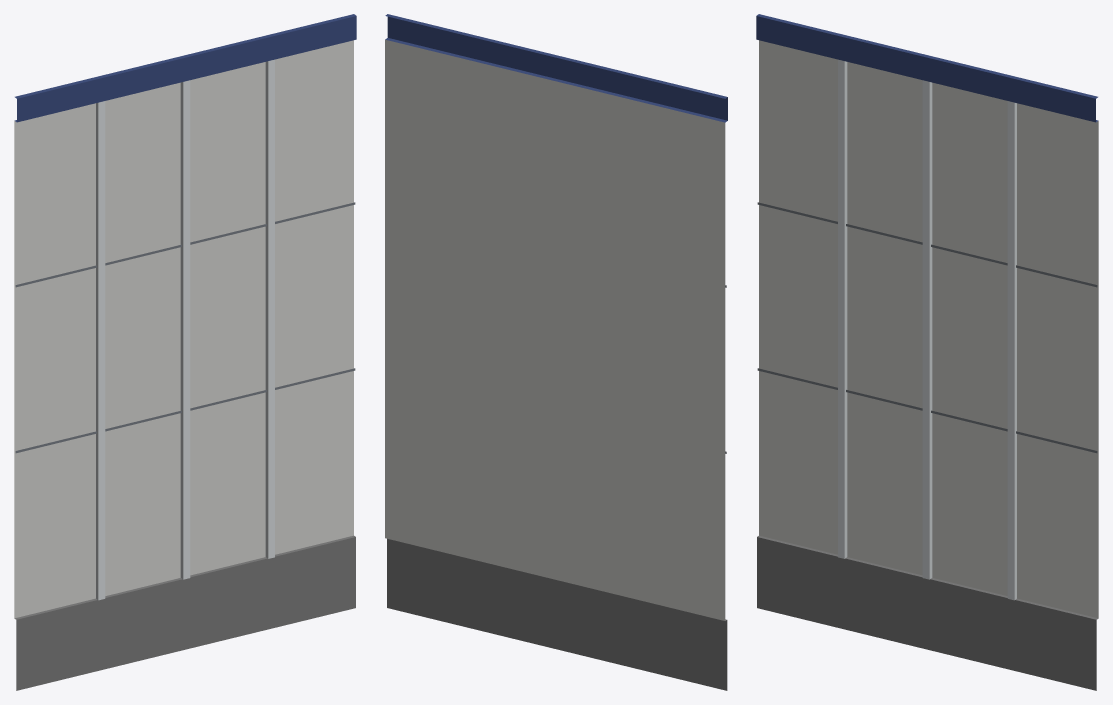
Rendered from base-w1_close.fbx.
3 views of the same model, side by side, from view 1: azimuth 30°, elevation 25°; view 2: azimuth 150°, elevation 25°; view 3: azimuth 330°, elevation 25° (orthographic).
Parts seen in each view (by area): view 1: a1028/0/base-w1_close; view 2: a1028/0/base-w1_close; view 3: a1028/0/base-w1_close.
Part boxes in pixels (<box>): a1028/0/base-w1_close: <box>14,14,356,690</box>; a1028/0/base-w1_close: <box>385,14,727,690</box>; a1028/0/base-w1_close: <box>756,14,1098,690</box>.
Size of the model in its own units: 6 by 10 by 0.08.
